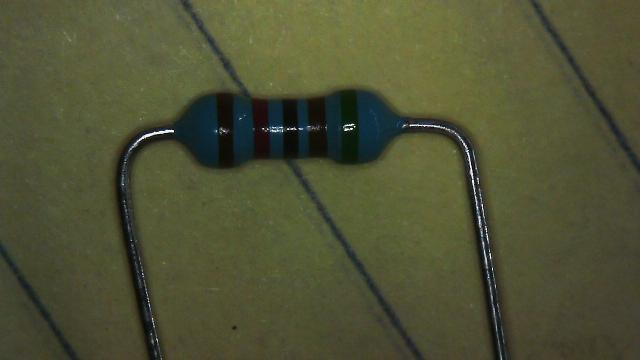black: (282, 100, 299, 158)
brown: (216, 92, 234, 168), (307, 97, 326, 156)
green: (339, 89, 359, 163)
red: (252, 99, 270, 158)
resistor: (172, 83, 408, 175)
